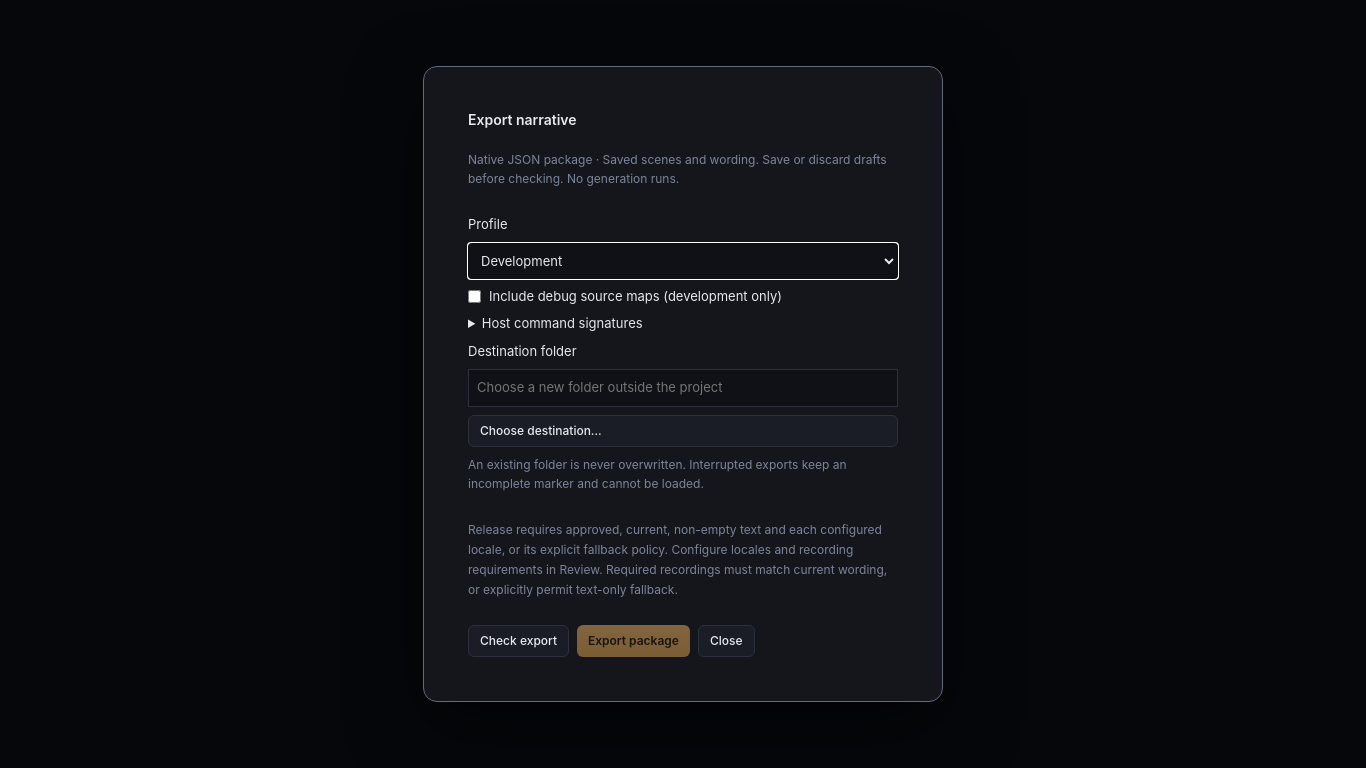
Narrative export › requires validation and destination, then publishes exactly the checked identity
Expected: the button "Export package" is disabled, [577,625,690,657]
Step 1. Type "/exports/story" into the field labelled "Destination folder" → [683, 388], box [468,369,898,407]
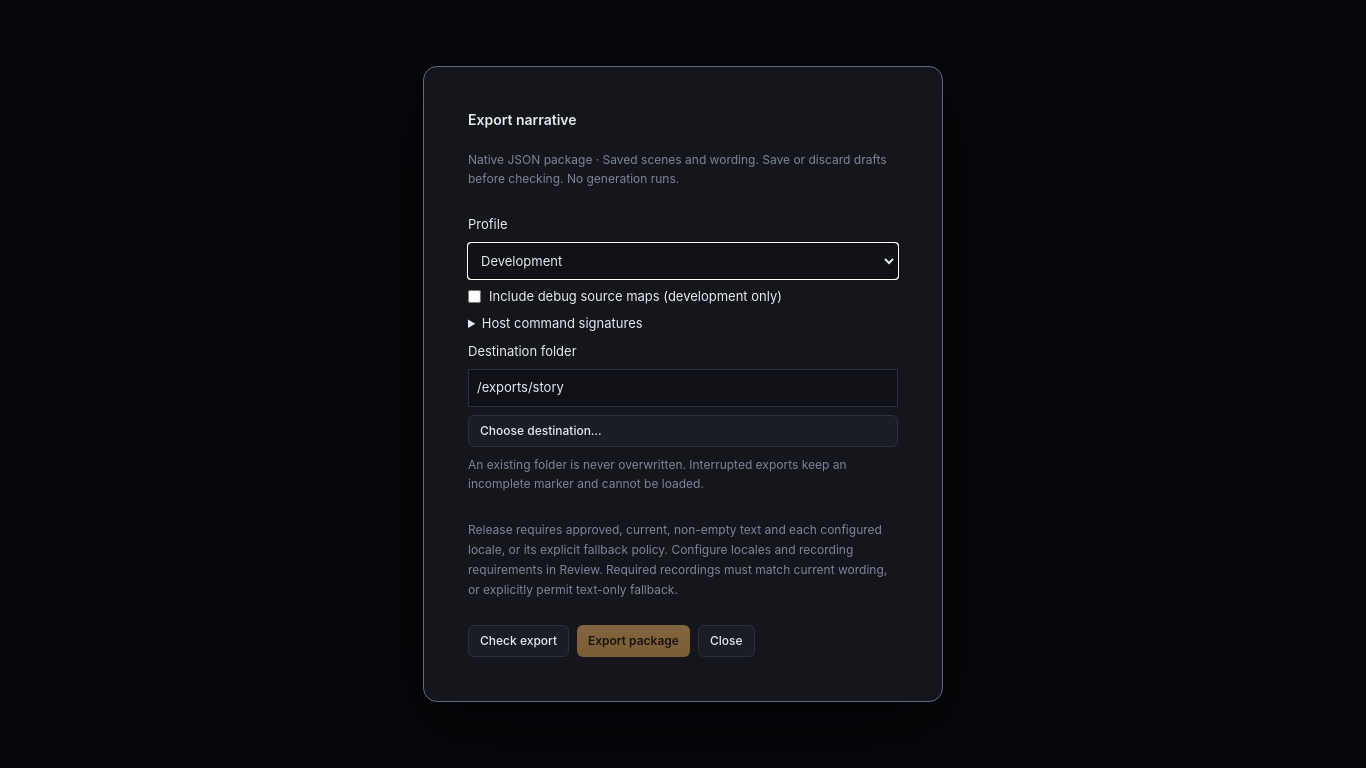
Step 2. Click the button "Check export" → [518, 641], box [468,625,569,657]
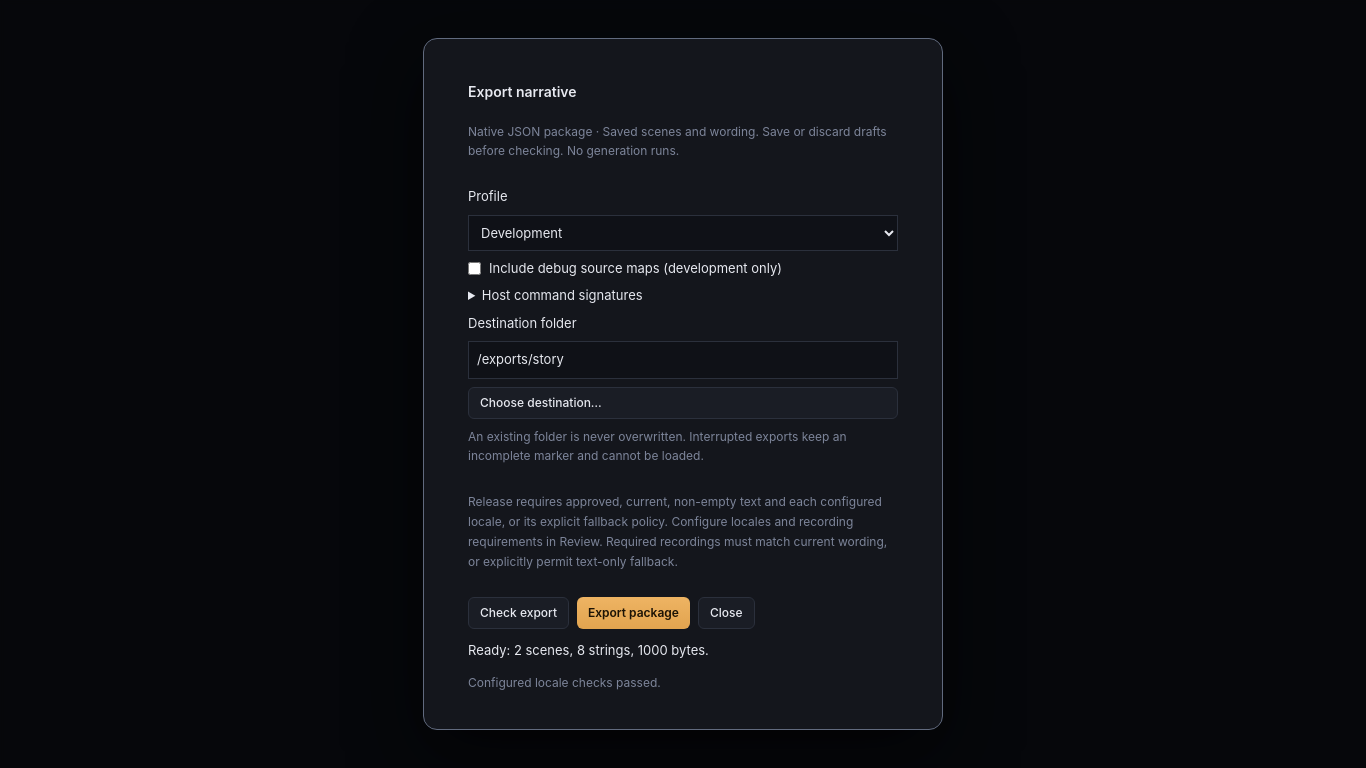
Expected: the text "Ready: 2 scenes, 8 strings, 1000 bytes." is shown, [468,642,709,658]
Step 3. Click the button "Export package" → [633, 614], box [577,598,690,630]
(page scrolled)
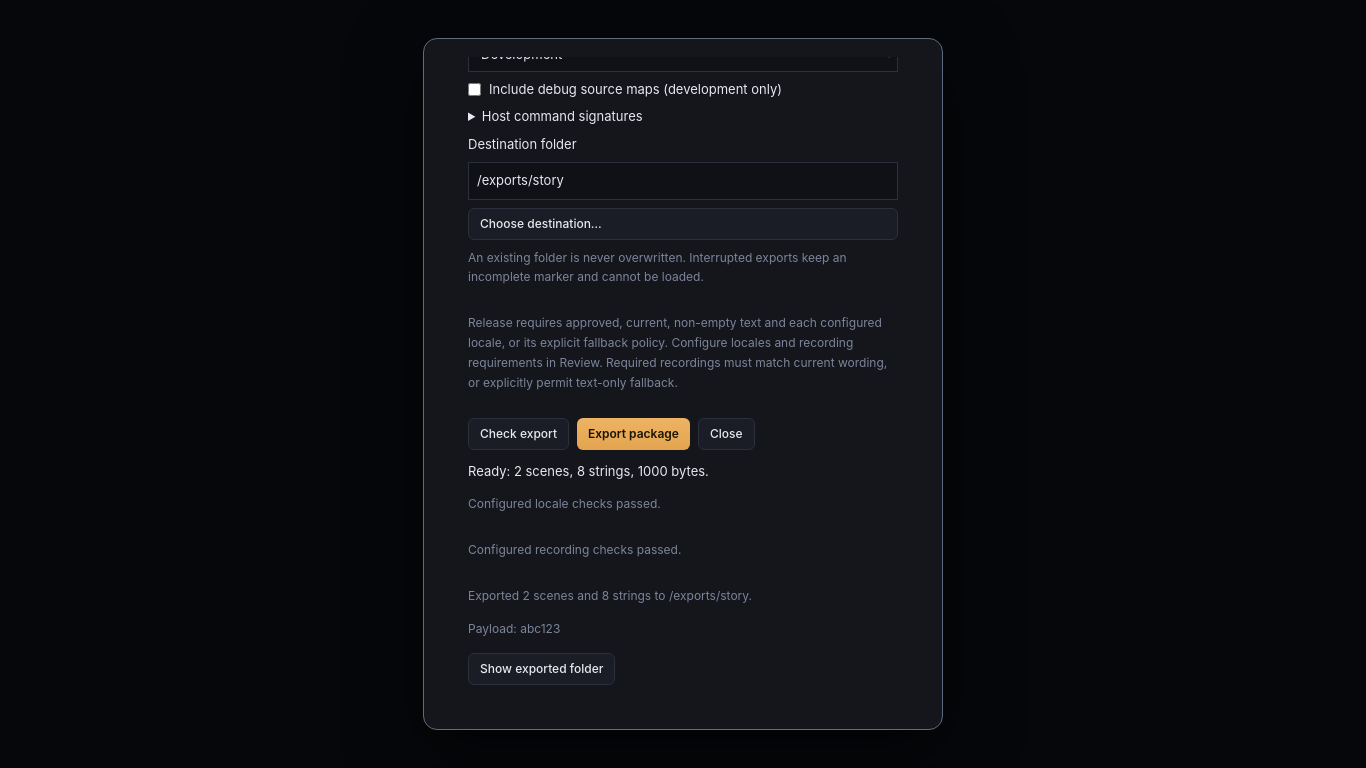
Expected: the text "Exported 2 scenes and 8 strings to /exports/story." is shown, [468,588,752,603]
